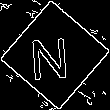N_N: (33, 28, 77, 82)
